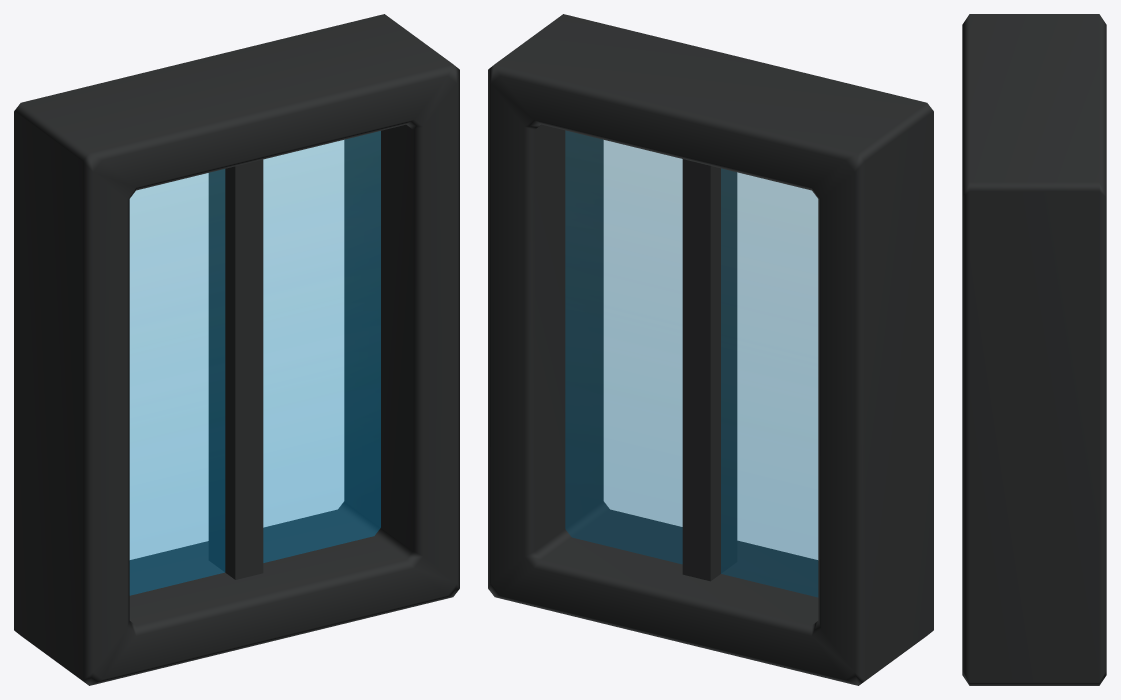
The model's file is Window_Black_10.glb.
3 views of the same model, side by side, from view 1: azimuth 30°, elevation 25°; view 2: azimuth 150°, elevation 25°; view 3: azimuth 270°, elevation 25° (orthographic). The views are drawn at different scales.
Parts seen in each view (by area): view 1: Window_Black_10; view 2: Window_Black_10; view 3: Window_Black_10.
Part boxes in pixels (x1,y1,x2,y2): Window_Black_10: (14, 14, 459, 685); Window_Black_10: (488, 14, 933, 685); Window_Black_10: (962, 14, 1106, 685).
Bounding box in the file's own units: 1.14 × 1.54 × 0.4.
2 materials, 2 textured.
